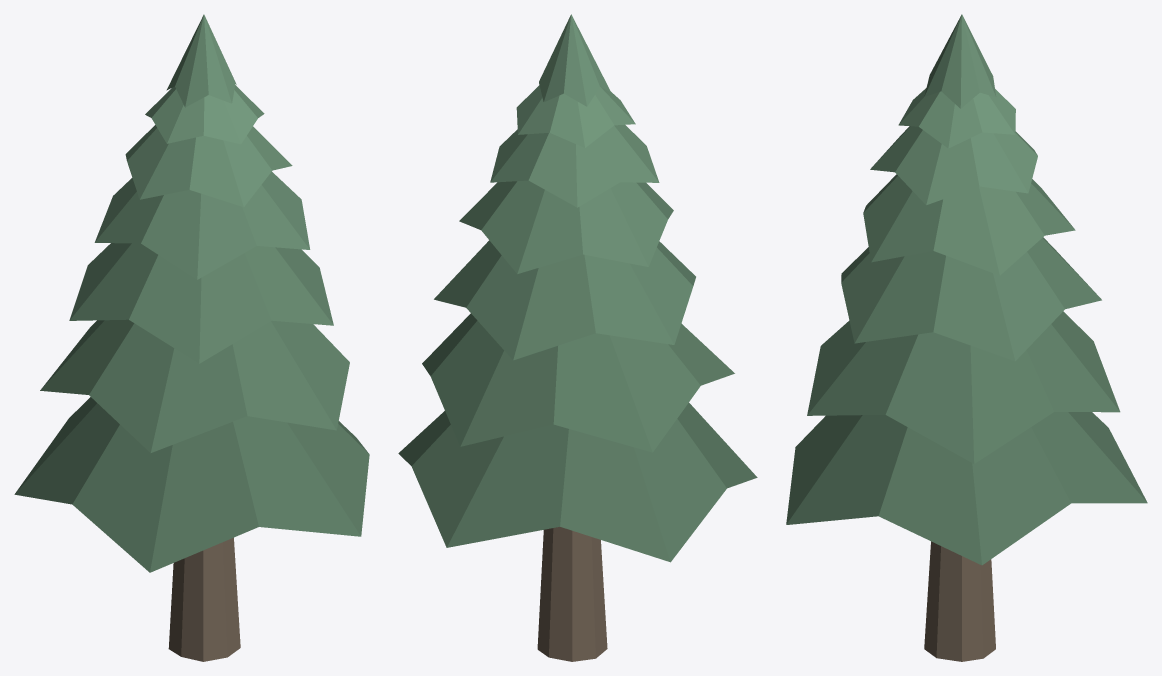
File: pine_6.glb
3 renders of one model, left to right at view 1: azimuth 30°, elevation 25°; view 2: azimuth 150°, elevation 25°; view 3: azimuth 270°, elevation 25°, orthographic.
Visible parts, largest first — view 1: pine_6.001; view 2: pine_6.001; view 3: pine_6.001.
Part boxes in pixels (left/top/right/bottom): pine_6.001: left=14, top=14, right=369, bottom=661; pine_6.001: left=398, top=14, right=757, bottom=661; pine_6.001: left=786, top=14, right=1147, bottom=661.
Size of the model in its own units: 13.26 by 26.09 by 13.5.
